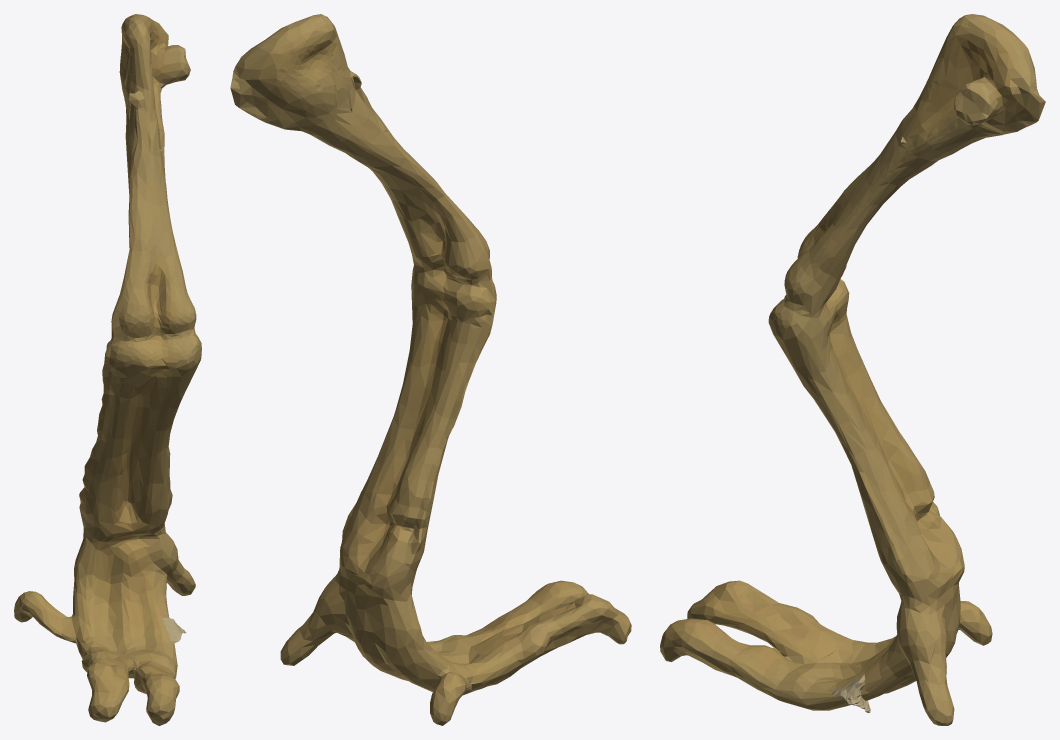
Rendered from bone10.glb.
The picture shows the model from 3 angles, left to right: view 1: azimuth 30°, elevation 25°; view 2: azimuth 150°, elevation 25°; view 3: azimuth 270°, elevation 25°; orthographic projection. The views are drawn at different scales.
Parts seen in each view (by area): view 1: tripo_node_b7b7e03f-5d93-42f3-b6fa-aefc123573d9; view 2: tripo_node_b7b7e03f-5d93-42f3-b6fa-aefc123573d9; view 3: tripo_node_b7b7e03f-5d93-42f3-b6fa-aefc123573d9.
Part boxes in pixels (<box>): tripo_node_b7b7e03f-5d93-42f3-b6fa-aefc123573d9: <box>14,14,201,725</box>; tripo_node_b7b7e03f-5d93-42f3-b6fa-aefc123573d9: <box>230,14,631,725</box>; tripo_node_b7b7e03f-5d93-42f3-b6fa-aefc123573d9: <box>660,14,1045,725</box>.
Size of the model in its own units: 0.3653 by 0.9784 by 0.4791.
Materials: 1 (1 with a texture image).
